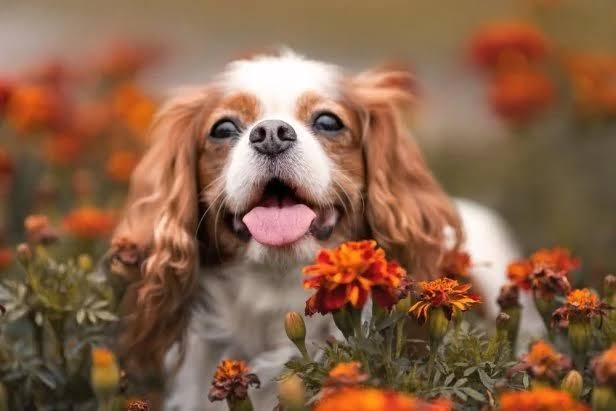adult_dog: (102, 48, 553, 407)
